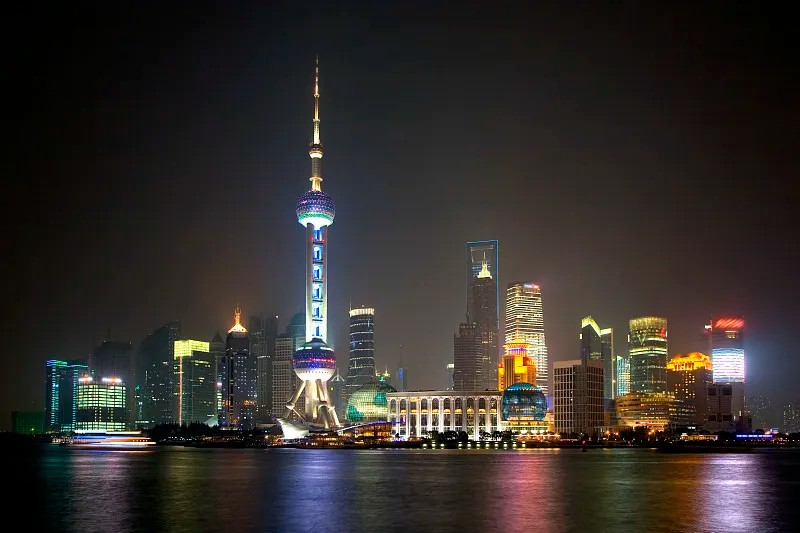Oriental: (277, 54, 340, 428)
